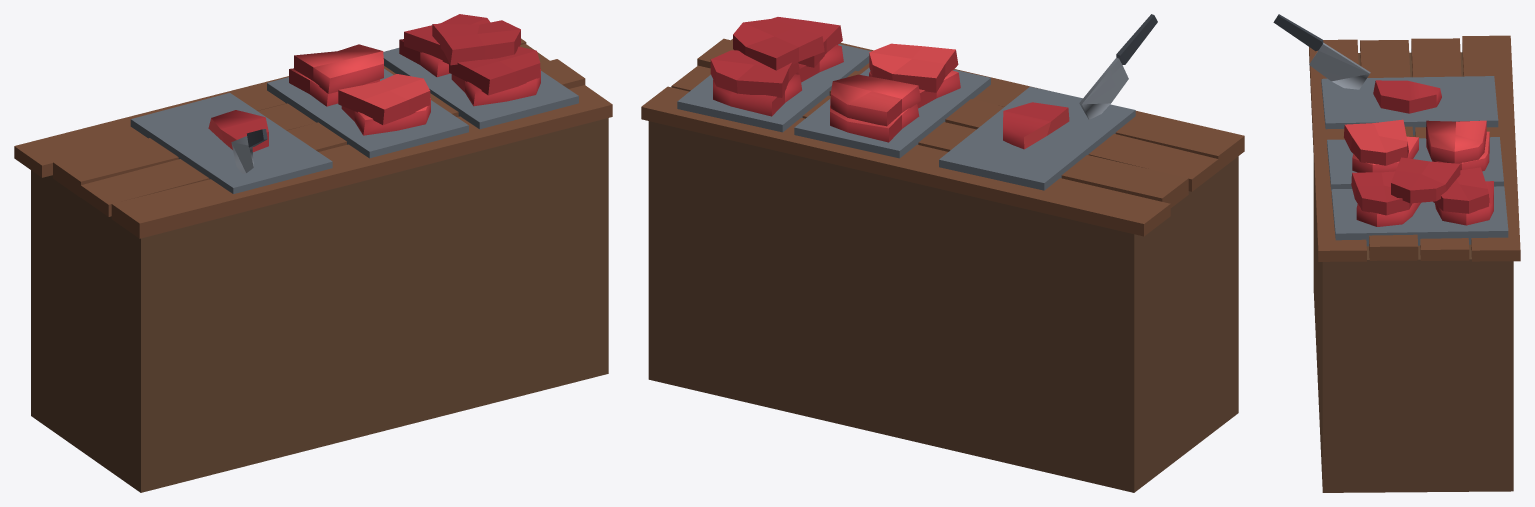
File: mesa_feira_pacote.glb
The picture shows the model from 3 angles, left to right: view 1: azimuth 30°, elevation 25°; view 2: azimuth 150°, elevation 25°; view 3: azimuth 270°, elevation 25°; orthographic projection. The views are drawn at different scales.
Visible parts, largest first — view 1: mesa_feira_pacote; view 2: mesa_feira_pacote; view 3: mesa_feira_pacote.
Part boxes in pixels (x1,y1,x2,y2): mesa_feira_pacote: (14,14,612,492); mesa_feira_pacote: (641,14,1244,492); mesa_feira_pacote: (1273,14,1520,492).
Bounding box in the file's own units: 1.57 × 1.08 × 0.7618.
1 material, 1 textured.
